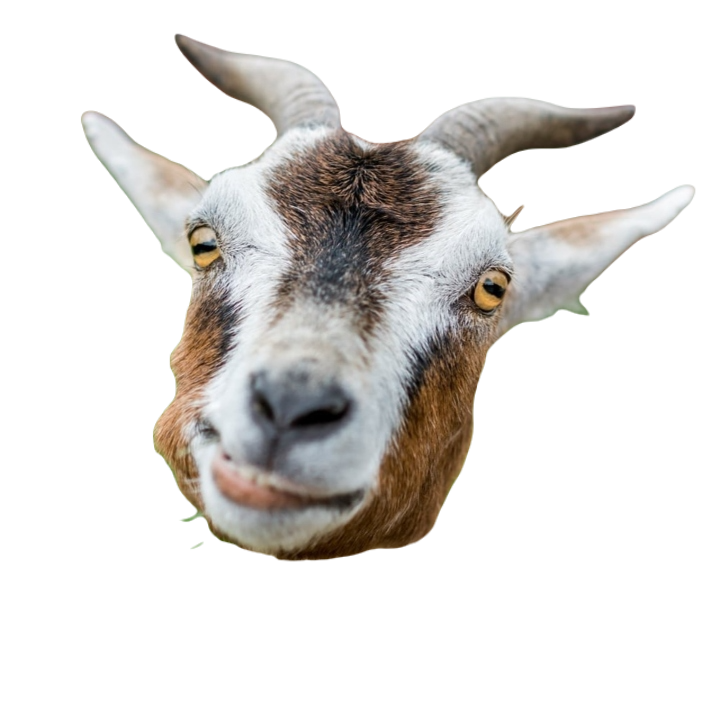Goat: (79, 31, 694, 561)
